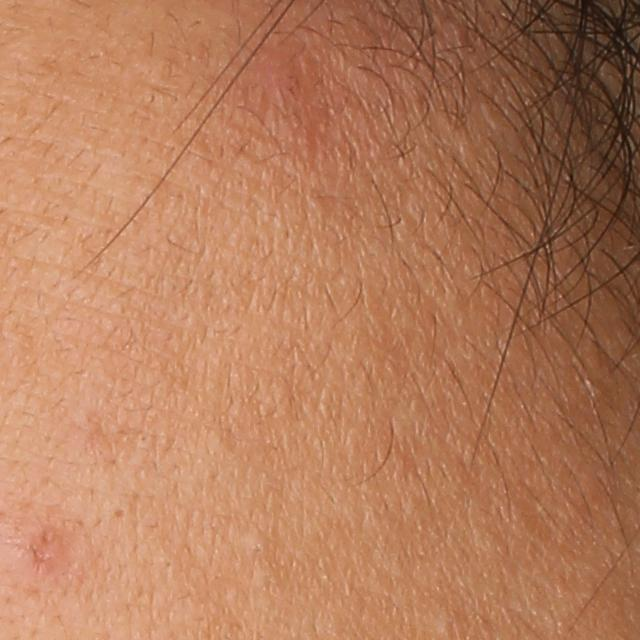comedo: (432, 609, 455, 637), (112, 505, 129, 520)
